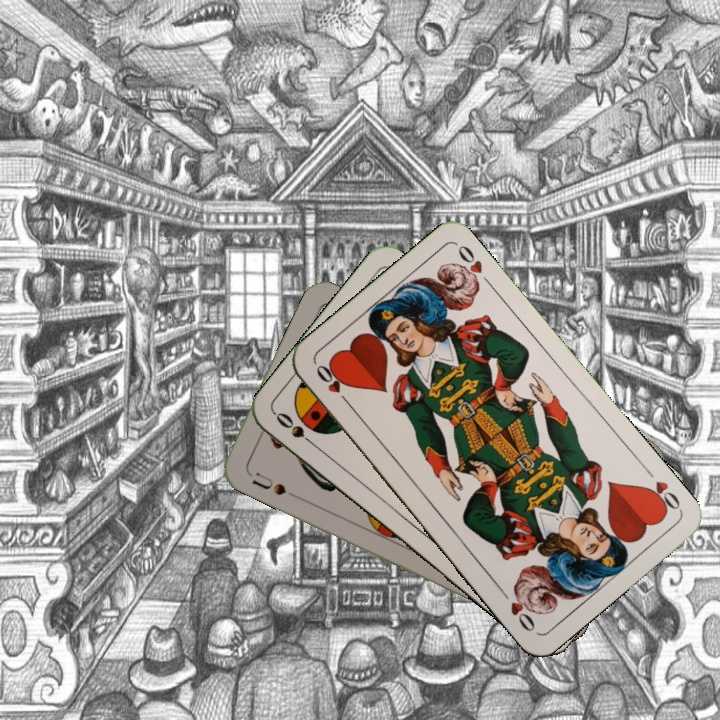HO: (312, 360, 354, 410), (640, 477, 684, 517)
SO: (271, 408, 321, 452)
SU: (244, 467, 299, 499)
